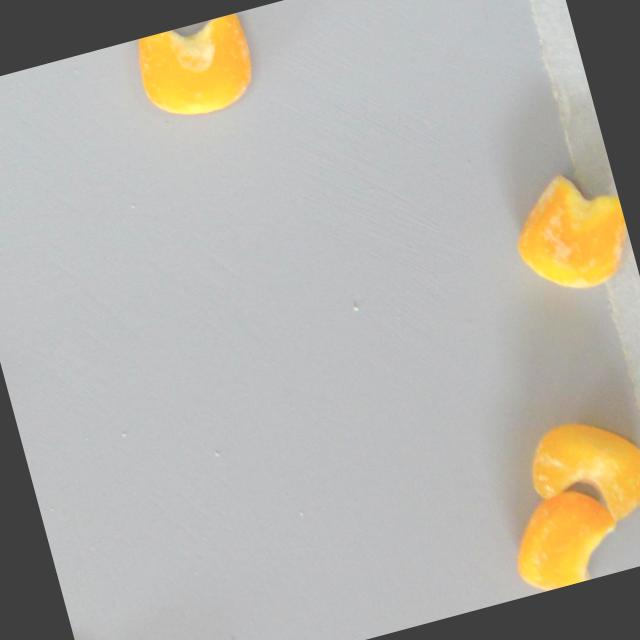pelicula: (497, 158, 637, 304), (516, 401, 640, 537), (129, 11, 262, 127), (499, 478, 627, 597)
